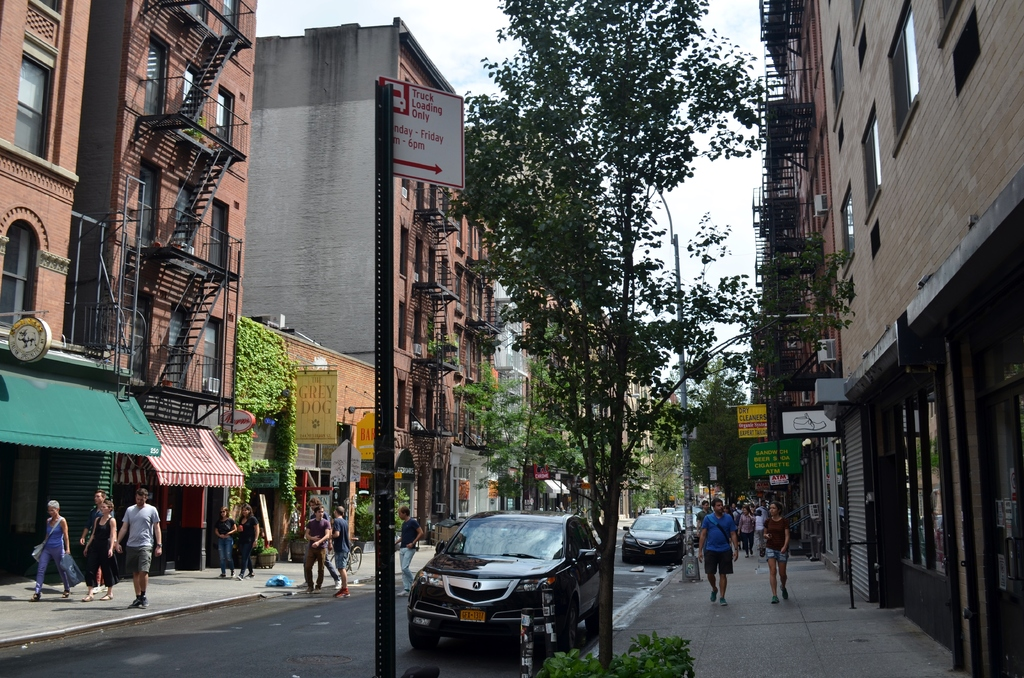Car: (407, 507, 602, 663), (620, 503, 702, 562)
